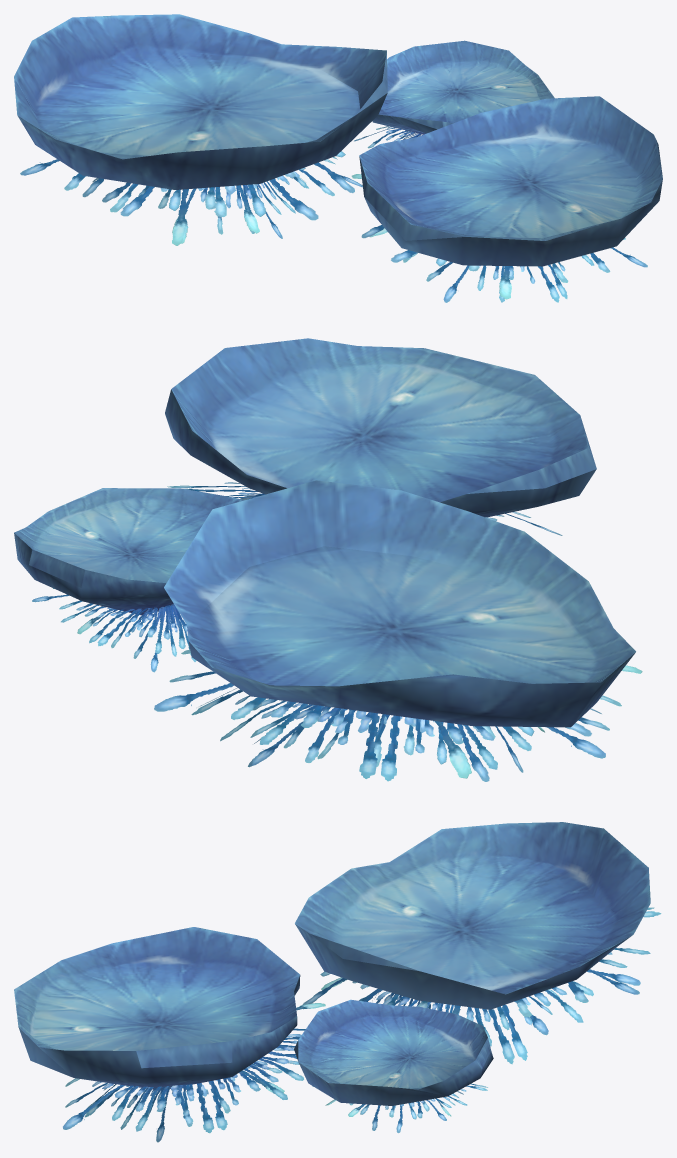
The model's file is Map_10_plant09.FBX.
3 renders of one model, top to bottom at view 1: azimuth 30°, elevation 25°; view 2: azimuth 150°, elevation 25°; view 3: azimuth 270°, elevation 25°, orthographic. The views are drawn at different scales.
Visible parts, largest first — view 1: Map_10_plant09a, Map_10_plant09b; view 2: Map_10_plant09a, Map_10_plant09b; view 3: Map_10_plant09a, Map_10_plant09b.
Part boxes in pixels (left/top/right/bottom): Map_10_plant09a: left=14, top=14, right=662, bottom=266; Map_10_plant09b: left=20, top=126, right=647, bottom=302; Map_10_plant09a: left=14, top=338, right=635, bottom=727; Map_10_plant09b: left=32, top=482, right=642, bottom=781; Map_10_plant09a: left=14, top=822, right=650, bottom=1105; Map_10_plant09b: left=63, top=907, right=661, bottom=1142.
Size of the model in its own units: 216 by 63.23 by 251.
